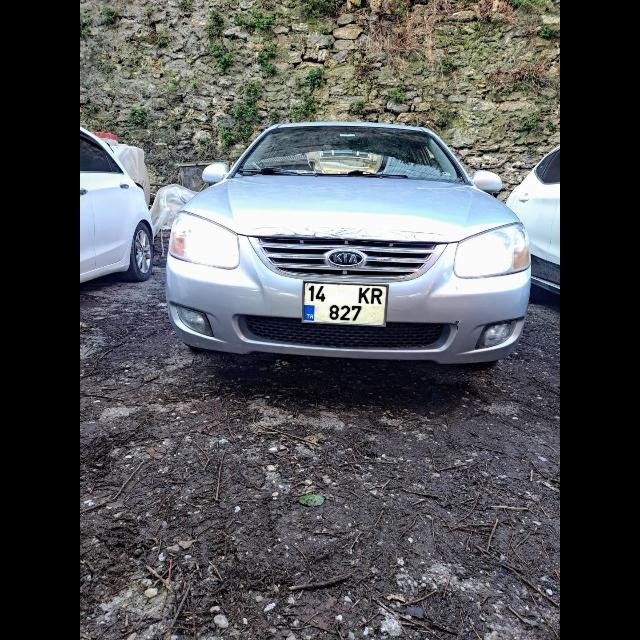Plaka: (303, 280, 387, 324)
